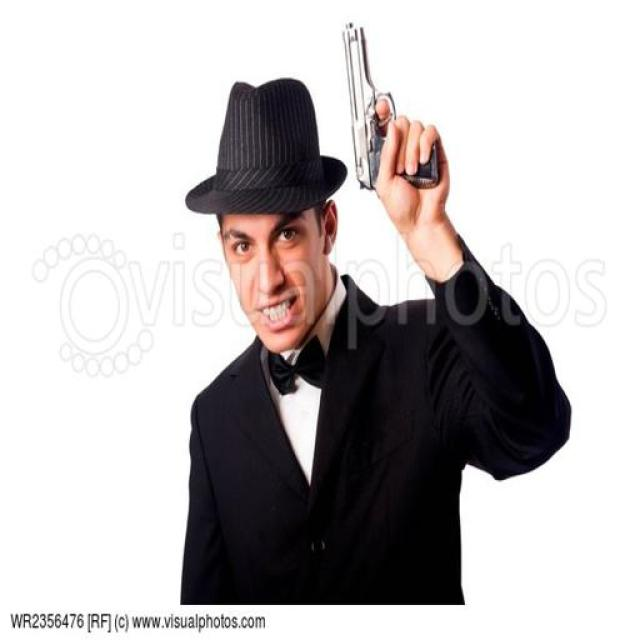pistol: (341, 18, 440, 196)
